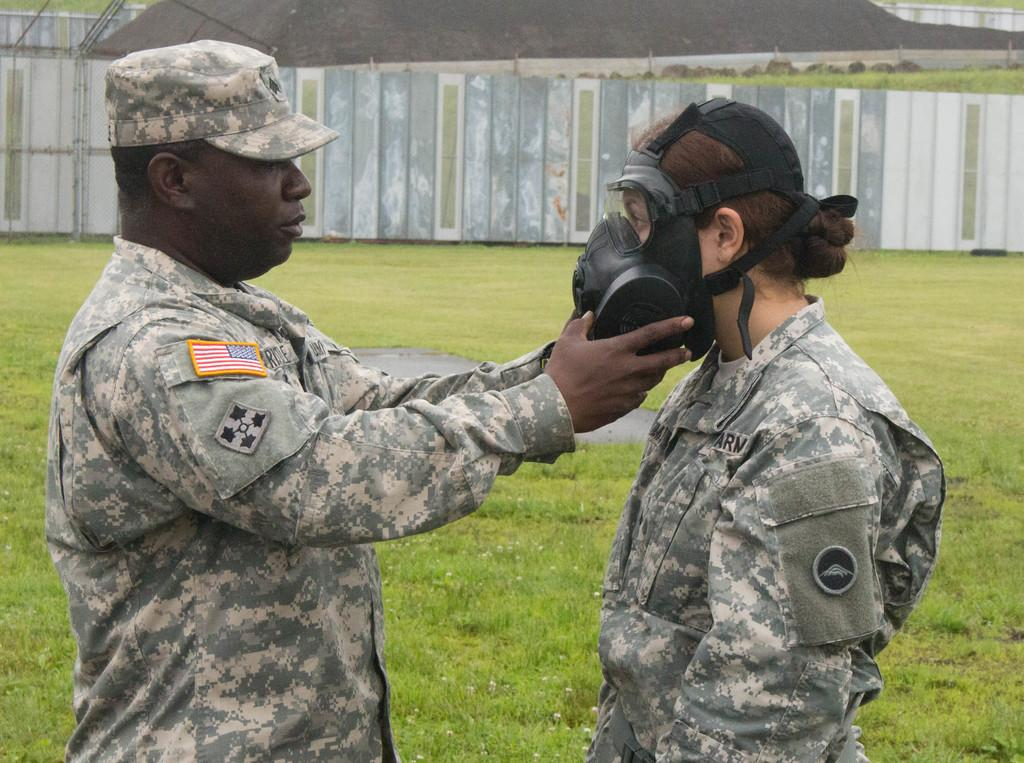Hat: (108, 38, 340, 164)
